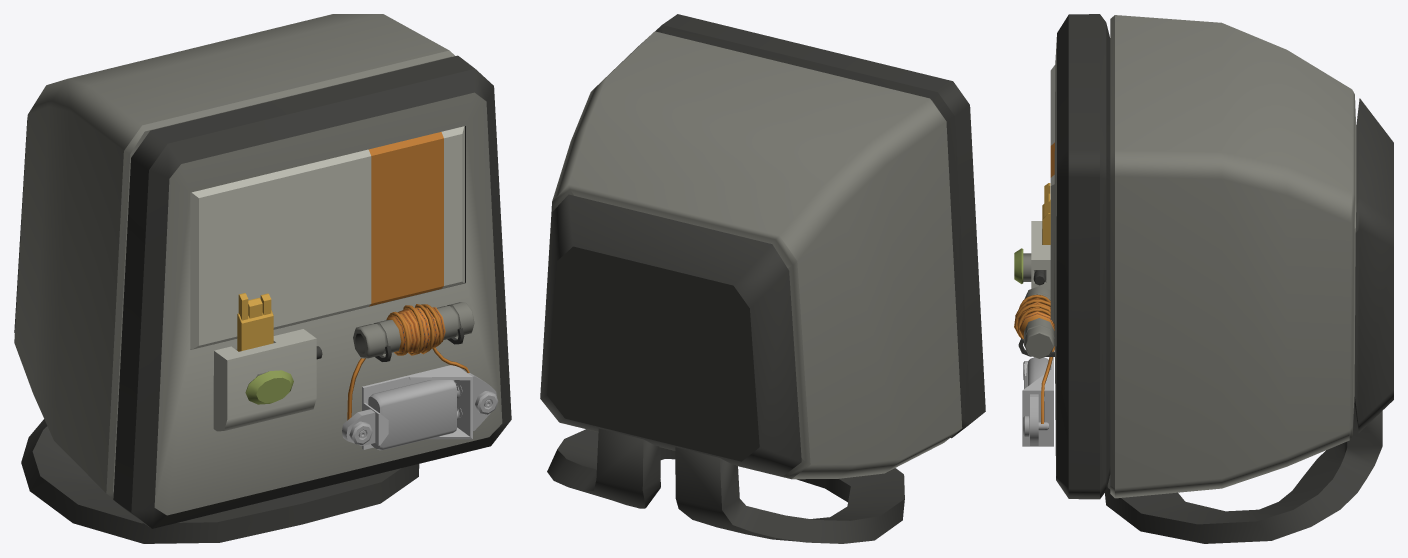
The model's file is SolenoidLock.fbx.
3 views of the same model, side by side, from view 1: azimuth 30°, elevation 25°; view 2: azimuth 150°, elevation 25°; view 3: azimuth 270°, elevation 25° (orthographic). The views are drawn at different scales.
Parts seen in each view (by area): view 1: SolSafe_Body, SolSafe_Door, Solenoid02, BatteryCase3, Battery, SolSafe_Lock, SolSafe_TurnLock; view 2: SolSafe_Body; view 3: SolSafe_Body, Solenoid02, BatteryCase3, SolSafe_Door, SolSafe_TurnLock, SolSafe_Lock.
Part boxes in pixels (x1,y1,x2,y2): SolSafe_Body: [14, 14, 511, 543]; SolSafe_Door: [190, 126, 464, 349]; Solenoid02: [347, 302, 474, 420]; BatteryCase3: [342, 365, 498, 449]; Battery: [368, 380, 460, 450]; SolSafe_Lock: [237, 293, 273, 351]; SolSafe_TurnLock: [245, 370, 293, 404]; SolSafe_Body: [540, 14, 985, 543]; SolSafe_Body: [1018, 14, 1393, 543]; Solenoid02: [1014, 286, 1054, 423]; BatteryCase3: [1022, 357, 1053, 446]; SolSafe_Door: [1050, 65, 1055, 323]; SolSafe_TurnLock: [1014, 248, 1031, 283]; SolSafe_Lock: [1042, 183, 1050, 244].
Size of the model in its own units: 3.99 by 4.38 by 3.83.
